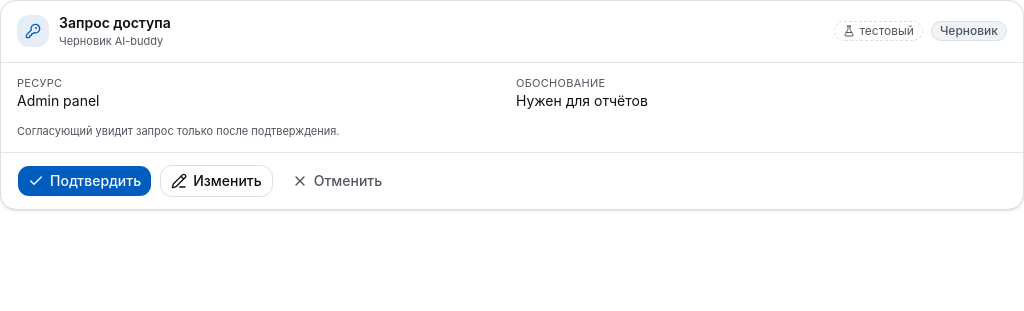
карточка действия › показывает ошибку валидации без изменения статуса
Click the button "Подтвердить" at (85, 180), box [17,164,152,196]
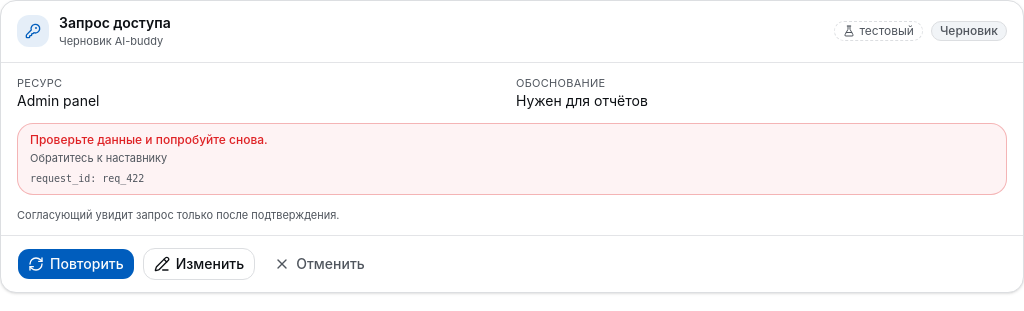
Expected: the message is shown, [17,123,1007,194]
Expected: the text "Проверьте данные и попробуйте снова." is shown, [30,132,268,147]
Expected: the text "Обратитесь к наставнику" is shown, [30,151,167,165]
